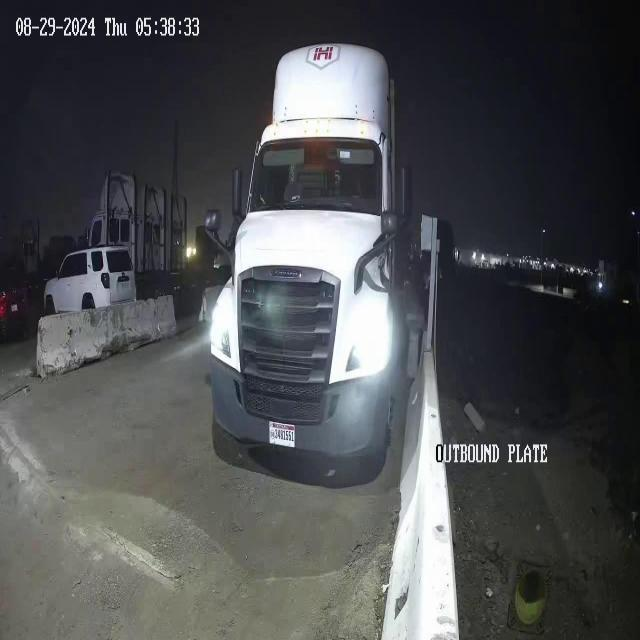TRUCK_OUT: (204, 41, 413, 488)
